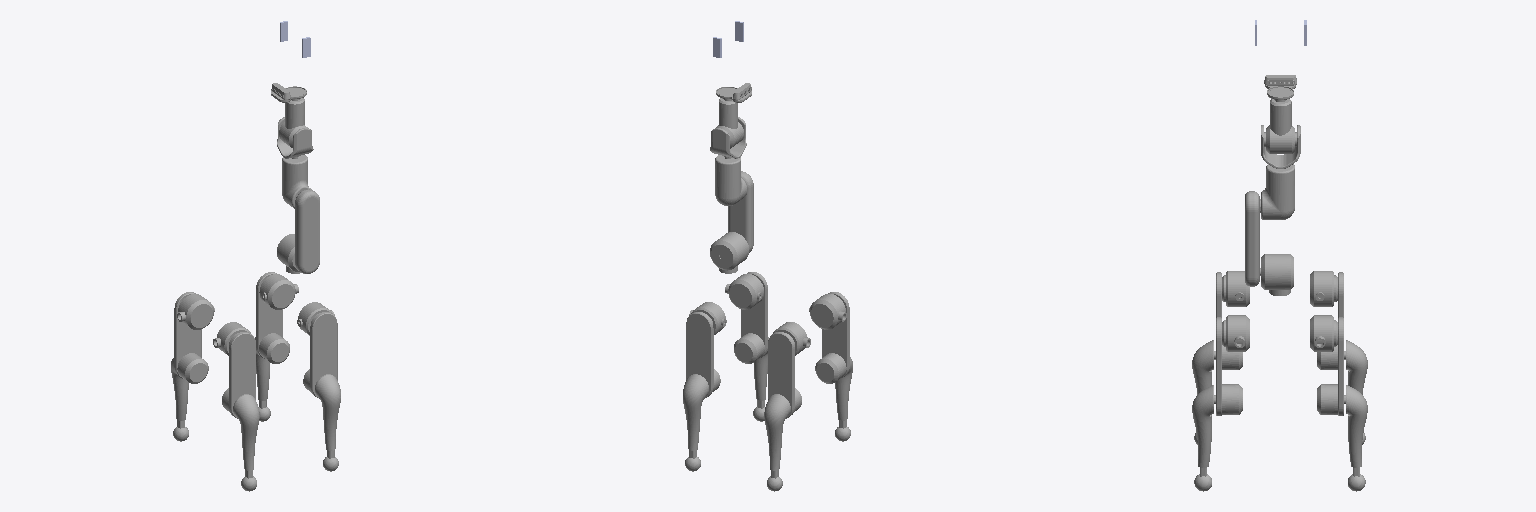
--- Render facts (derived) ---
3 views of the same robot in one strip: view 1: azimuth 30°, elevation 25°; view 2: azimuth 150°, elevation 25°; view 3: azimuth 270°, elevation 25° (orthographic).
Model pipebot with 39 links and 38 joints (6 revolute, 18 continuous, 14 fixed), rooted at base_link, posed every joint at zero.
Visible links, largest first — view 1: ARM_2_1, FR_thigh_2, BR_thigh_1, BL_thigh_1, FL_thigh_1, FR_calf_2, BR_calf_1, ARM_3_1, FL_hip_1, BL_hip_2, ARM_5_1, ARM_4_1 (+4 smaller); view 2: FL_thigh_1, BL_thigh_1, BR_thigh_1, FR_thigh_2, ARM_3_1, FL_calf_1, BL_calf_1, ARM_1_1, ARM_2_1, FR_hip_1, BR_hip_1, ARM_5_1 (+4 smaller); view 3: ARM_3_1, ARM_5_1, ARM_2_1, FR_calf_2, FL_calf_1, ARM_1_1, FR_thigh_2, FL_thigh_1, FR_hip_1, FL_hip_1, BL_hip_2, BR_hip_1 (+6 smaller).
Link boxes in pixels (left/top/right/bottom): ARM_2_1: left=295, top=189, right=319, bottom=273; FR_thigh_2: left=303, top=312, right=337, bottom=398; BR_thigh_1: left=222, top=332, right=255, bottom=418; BL_thigh_1: left=174, top=292, right=208, bottom=383; FL_thigh_1: left=256, top=272, right=289, bottom=363; FR_calf_2: left=315, top=374, right=340, bottom=458; BR_calf_1: left=233, top=394, right=259, bottom=478; ARM_3_1: left=282, top=155, right=311, bottom=208; FL_hip_1: left=259, top=274, right=298, bottom=309; BL_hip_2: left=177, top=294, right=214, bottom=329; ARM_5_1: left=279, top=98, right=307, bottom=147; ARM_4_1: left=277, top=117, right=313, bottom=158; FL_thigh_1: left=686, top=312, right=720, bottom=398; BL_thigh_1: left=768, top=332, right=801, bottom=418; BR_thigh_1: left=815, top=292, right=849, bottom=383; FR_thigh_2: left=734, top=272, right=767, bottom=363; ARM_3_1: left=715, top=155, right=747, bottom=205; FL_calf_1: left=683, top=374, right=708, bottom=458; BL_calf_1: left=764, top=394, right=790, bottom=478; ARM_1_1: left=710, top=232, right=748, bottom=273; ARM_2_1: left=728, top=171, right=753, bottom=252; FR_hip_1: left=725, top=274, right=763, bottom=309; BR_hip_1: left=809, top=294, right=846, bottom=329; ARM_5_1: left=716, top=98, right=743, bottom=148; ARM_3_1: left=1260, top=164, right=1294, bottom=219; ARM_5_1: left=1264, top=99, right=1296, bottom=153; ARM_2_1: left=1245, top=191, right=1259, bottom=286; FR_calf_2: left=1192, top=385, right=1213, bottom=476; FL_calf_1: left=1346, top=385, right=1367, bottom=476; ARM_1_1: left=1260, top=254, right=1293, bottom=295; FR_thigh_2: left=1214, top=317, right=1242, bottom=415; FL_thigh_1: left=1317, top=317, right=1345, bottom=415; FR_hip_1: left=1222, top=315, right=1249, bottom=351; FL_hip_1: left=1310, top=315, right=1337, bottom=351; BL_hip_2: left=1310, top=271, right=1337, bottom=306; BR_hip_1: left=1222, top=271, right=1249, bottom=306.
Size in the robot's own frame: 0.416 by 0.4817 by 1.41 metres.
Meshes: 28 distinct files referenced, 22 mesh visuals loaded (22 binary STL); not drawn: 10 (reference not matched to a file when rendering).

The robot description file, URDF, robot "pipebot":
<?xml version="1.0" ?>
<!-- =================================================================================== -->
<!-- |    This document was autogenerated by xacro from pipebot.xacro                  | -->
<!-- |    EDITING THIS FILE BY HAND IS NOT RECOMMENDED                                 | -->
<!-- =================================================================================== -->
<robot name="pipebot">
  <material name="silver">
    <color rgba="0.700 0.700 0.700 1.000"/>
  </material>
  <transmission name="FR_hip_joint_tran">
    <type>transmission_interface/SimpleTransmission</type>
    <joint name="FR_hip_joint">
      <hardwareInterface>hardware_interface/EffortJointInterface</hardwareInterface>
    </joint>
    <actuator name="FR_hip_joint_actr">
      <hardwareInterface>hardware_interface/EffortJointInterface</hardwareInterface>
      <mechanicalReduction>1</mechanicalReduction>
    </actuator>
  </transmission>
  <transmission name="FL_hip_joint_tran">
    <type>transmission_interface/SimpleTransmission</type>
    <joint name="FL_hip_joint">
      <hardwareInterface>hardware_interface/EffortJointInterface</hardwareInterface>
    </joint>
    <actuator name="FL_hip_joint_actr">
      <hardwareInterface>hardware_interface/EffortJointInterface</hardwareInterface>
      <mechanicalReduction>1</mechanicalReduction>
    </actuator>
  </transmission>
  <transmission name="BR_hip_joint_tran">
    <type>transmission_interface/SimpleTransmission</type>
    <joint name="BR_hip_joint">
      <hardwareInterface>hardware_interface/EffortJointInterface</hardwareInterface>
    </joint>
    <actuator name="BR_hip_joint_actr">
      <hardwareInterface>hardware_interface/EffortJointInterface</hardwareInterface>
      <mechanicalReduction>1</mechanicalReduction>
    </actuator>
  </transmission>
  <transmission name="BL_hip_joint_tran">
    <type>transmission_interface/SimpleTransmission</type>
    <joint name="BL_hip_joint">
      <hardwareInterface>hardware_interface/EffortJointInterface</hardwareInterface>
    </joint>
    <actuator name="BL_hip_joint_actr">
      <hardwareInterface>hardware_interface/EffortJointInterface</hardwareInterface>
      <mechanicalReduction>1</mechanicalReduction>
    </actuator>
  </transmission>
  <transmission name="FR_thigh_joint_tran">
    <type>transmission_interface/SimpleTransmission</type>
    <joint name="FR_thigh_joint">
      <hardwareInterface>hardware_interface/EffortJointInterface</hardwareInterface>
    </joint>
    <actuator name="FR_thigh_joint_actr">
      <hardwareInterface>hardware_interface/EffortJointInterface</hardwareInterface>
      <mechanicalReduction>1</mechanicalReduction>
    </actuator>
  </transmission>
  <transmission name="FL_thigh_joint_tran">
    <type>transmission_interface/SimpleTransmission</type>
    <joint name="FL_thigh_joint">
      <hardwareInterface>hardware_interface/EffortJointInterface</hardwareInterface>
    </joint>
    <actuator name="FL_thigh_joint_actr">
      <hardwareInterface>hardware_interface/EffortJointInterface</hardwareInterface>
      <mechanicalReduction>1</mechanicalReduction>
    </actuator>
  </transmission>
  <transmission name="BR_thigh_joint_tran">
    <type>transmission_interface/SimpleTransmission</type>
    <joint name="BR_thigh_joint">
      <hardwareInterface>hardware_interface/EffortJointInterface</hardwareInterface>
    </joint>
    <actuator name="BR_thigh_joint_actr">
      <hardwareInterface>hardware_interface/EffortJointInterface</hardwareInterface>
      <mechanicalReduction>1</mechanicalReduction>
    </actuator>
  </transmission>
  <transmission name="BL_thigh_joint_tran">
    <type>transmission_interface/SimpleTransmission</type>
    <joint name="BL_thigh_joint">
      <hardwareInterface>hardware_interface/EffortJointInterface</hardwareInterface>
    </joint>
    <actuator name="BL_thigh_joint_actr">
      <hardwareInterface>hardware_interface/EffortJointInterface</hardwareInterface>
      <mechanicalReduction>1</mechanicalReduction>
    </actuator>
  </transmission>
  <transmission name="FR_calf_joint_tran">
    <type>transmission_interface/SimpleTransmission</type>
    <joint name="FR_calf_joint">
      <hardwareInterface>hardware_interface/EffortJointInterface</hardwareInterface>
    </joint>
    <actuator name="FR_calf_joint_actr">
      <hardwareInterface>hardware_interface/EffortJointInterface</hardwareInterface>
      <mechanicalReduction>1</mechanicalReduction>
    </actuator>
  </transmission>
  <transmission name="FL_calf_joint_tran">
    <type>transmission_interface/SimpleTransmission</type>
    <joint name="FL_calf_joint">
      <hardwareInterface>hardware_interface/EffortJointInterface</hardwareInterface>
    </joint>
    <actuator name="FL_calf_joint_actr">
      <hardwareInterface>hardware_interface/EffortJointInterface</hardwareInterface>
      <mechanicalReduction>1</mechanicalReduction>
    </actuator>
  </transmission>
  <transmission name="BR_calf_joint_tran">
    <type>transmission_interface/SimpleTransmission</type>
    <joint name="BR_calf_joint">
      <hardwareInterface>hardware_interface/EffortJointInterface</hardwareInterface>
    </joint>
    <actuator name="BR_calf_joint_actr">
      <hardwareInterface>hardware_interface/EffortJointInterface</hardwareInterface>
      <mechanicalReduction>1</mechanicalReduction>
    </actuator>
  </transmission>
  <transmission name="BL_calf_joint_tran">
    <type>transmission_interface/SimpleTransmission</type>
    <joint name="BL_calf_joint">
      <hardwareInterface>hardware_interface/EffortJointInterface</hardwareInterface>
    </joint>
    <actuator name="BL_calf_joint_actr">
      <hardwareInterface>hardware_interface/EffortJointInterface</hardwareInterface>
      <mechanicalReduction>1</mechanicalReduction>
    </actuator>
  </transmission>

  <transmission name="arm_1_joint_tran">
    <type>transmission_interface/SimpleTransmission</type>
    <joint name="arm_1_joint">
      <hardwareInterface>hardware_interface/EffortJointInterface</hardwareInterface>
    </joint>
    <actuator name="arm_1_joint_actr">
      <hardwareInterface>hardware_interface/EffortJointInterface</hardwareInterface>
      <mechanicalReduction>1</mechanicalReduction>
    </actuator>
  </transmission>
  <transmission name="arm_2_joint_tran">
    <type>transmission_interface/SimpleTransmission</type>
    <joint name="arm_2_joint">
      <hardwareInterface>hardware_interface/EffortJointInterface</hardwareInterface>
    </joint>
    <actuator name="arm_2_joint_actr">
      <hardwareInterface>hardware_interface/EffortJointInterface</hardwareInterface>
      <mechanicalReduction>1</mechanicalReduction>
    </actuator>
  </transmission>
  <transmission name="arm_3_joint_tran">
    <type>transmission_interface/SimpleTransmission</type>
    <joint name="arm_3_joint">
      <hardwareInterface>hardware_interface/EffortJointInterface</hardwareInterface>
    </joint>
    <actuator name="arm_3_joint_actr">
      <hardwareInterface>hardware_interface/EffortJointInterface</hardwareInterface>
      <mechanicalReduction>1</mechanicalReduction>
    </actuator>
  </transmission>
  <transmission name="arm_4_joint_tran">
    <type>transmission_interface/SimpleTransmission</type>
    <joint name="arm_4_joint">
      <hardwareInterface>hardware_interface/EffortJointInterface</hardwareInterface>
    </joint>
    <actuator name="arm_4_joint_actr">
      <hardwareInterface>hardware_interface/EffortJointInterface</hardwareInterface>
      <mechanicalReduction>1</mechanicalReduction>
    </actuator>
  </transmission>
  <transmission name="arm_5_joint_tran">
    <type>transmission_interface/SimpleTransmission</type>
    <joint name="arm_5_joint">
      <hardwareInterface>hardware_interface/EffortJointInterface</hardwareInterface>
    </joint>
    <actuator name="arm_5_joint_actr">
      <hardwareInterface>hardware_interface/EffortJointInterface</hardwareInterface>
      <mechanicalReduction>1</mechanicalReduction>
    </actuator>
  </transmission>
  <transmission name="arm_6_joint_tran">
    <type>transmission_interface/SimpleTransmission</type>
    <joint name="arm_6_joint">
      <hardwareInterface>hardware_interface/EffortJointInterface</hardwareInterface>
    </joint>
    <actuator name="arm_6_joint_actr">
      <hardwareInterface>hardware_interface/EffortJointInterface</hardwareInterface>
      <mechanicalReduction>1</mechanicalReduction>
    </actuator>
  </transmission>

  <transmission name="finger_joint_trans">
    <type>transmission_interface/SimpleTransmission</type>
    <joint name="finger_joint">
      <hardwareInterface>hardware_interface/PositionJointInterface</hardwareInterface>
    </joint>
    <actuator name="finger_joint_motor">
      <mechanicalReduction>1</mechanicalReduction>
    </actuator>
  </transmission>
  <transmission name="left_inner_knuckle_joint_trans">
    <type>transmission_interface/SimpleTransmission</type>
    <joint name="left_inner_knuckle_joint">
      <hardwareInterface>hardware_interface/PositionJointInterface</hardwareInterface>
    </joint>
    <actuator name="left_inner_knuckle_joint_motor">
      <mechanicalReduction>1</mechanicalReduction>
    </actuator>
  </transmission>
  <transmission name="left_inner_finger_joint_trans">
    <type>transmission_interface/SimpleTransmission</type>
    <joint name="left_inner_finger_joint">
      <hardwareInterface>hardware_interface/PositionJointInterface</hardwareInterface>
    </joint>
    <actuator name="left_inner_finger_joint_motor">
      <mechanicalReduction>1</mechanicalReduction>
    </actuator>
  </transmission>
  <transmission name="right_outer_knuckle_joint_trans">
    <type>transmission_interface/SimpleTransmission</type>
    <joint name="right_outer_knuckle_joint">
      <hardwareInterface>hardware_interface/PositionJointInterface</hardwareInterface>
    </joint>
    <actuator name="right_outer_knuckle_joint_motor">
      <mechanicalReduction>1</mechanicalReduction>
    </actuator>
  </transmission>
  <transmission name="right_inner_knuckle_joint_trans">
    <type>transmission_interface/SimpleTransmission</type>
    <joint name="right_inner_knuckle_joint">
      <hardwareInterface>hardware_interface/PositionJointInterface</hardwareInterface>
    </joint>
    <actuator name="right_inner_knuckle_joint_motor">
      <mechanicalReduction>1</mechanicalReduction>
    </actuator>
  </transmission>
  <transmission name="right_inner_finger_joint_trans">
    <type>transmission_interface/SimpleTransmission</type>
    <joint name="right_inner_finger_joint">
      <hardwareInterface>hardware_interface/PositionJointInterface</hardwareInterface>
    </joint>
    <actuator name="right_inner_finger_joint_motor">
      <mechanicalReduction>1</mechanicalReduction>
    </actuator>
  </transmission>



  <gazebo>
    <plugin filename="libgazebo_ros_control.so" name="control">
      <legacyModeNS>true</legacyModeNS>
    </plugin>
  </gazebo>
  <gazebo reference="base_link">
    <material>Gazebo/DarkGrey</material>
 <!--    <mu1>0.2</mu1>
    <mu2>0.2</mu2> -->
    <gravity>true</gravity>
  </gazebo>
  <gazebo reference="FR_hip_1">
    <material>Gazebo/Grey</material>
    <!-- <mu1>0.2</mu1>
    <mu2>0.2</mu2> -->
  </gazebo>
  <gazebo reference="FL_hip_1">
    <material>Gazebo/Grey</material>
<!--     <mu1>0.2</mu1>
    <mu2>0.2</mu2> -->
  </gazebo>
  <gazebo reference="BR_hip_1">
    <material>Gazebo/Grey</material>
    <!-- <mu1>0.2</mu1>
    <mu2>0.2</mu2> -->
  </gazebo>
  <gazebo reference="BL_hip_2">
    <material>Gazebo/Grey</material>
    <!-- <mu1>0.2</mu1>
    <mu2>0.2</mu2> -->
  </gazebo>
  <gazebo reference="FR_thigh_2">
    <material>Gazebo/DarkGrey</material>
    <!-- <mu1>0.2</mu1>
    <mu2>0.2</mu2> -->
  </gazebo>
  <gazebo reference="FL_thigh_1">
    <material>Gazebo/DarkGrey</material>
    <!-- <mu1>0.2</mu1>
    <mu2>0.2</mu2> -->
  </gazebo>
  <gazebo reference="BR_thigh_1">
    <material>Gazebo/DarkGrey</material>
    <!-- <mu1>0.2</mu1>
    <mu2>0.2</mu2> -->
  </gazebo>
  <gazebo reference="BL_thigh_1">
    <material>Gazebo/DarkGrey</material>
    <!-- <mu1>0.2</mu1>
    <mu2>0.2</mu2> -->
  </gazebo>
  <gazebo reference="FR_calf_2">
    <material>Gazebo/DarkGrey</material>
    <!-- <mu1>0.2</mu1>
    <mu2>0.2</mu2> -->
  </gazebo>
  <gazebo reference="FL_calf_1">
    <material>Gazebo/DarkGrey</material>
    <!-- <mu1>0.2</mu1>
    <mu2>0.2</mu2> -->
  </gazebo>
  <gazebo reference="BR_calf_1">
    <material>Gazebo/DarkGrey</material>
    <!-- <mu1>0.2</mu1>
    <mu2>0.2</mu2> -->
  </gazebo>
  <gazebo reference="BL_calf_1">
    <material>Gazebo/DarkGrey</material>
    <!-- <mu1>0.2</mu1>
    <mu2>0.2</mu2> -->
  </gazebo>
  <gazebo reference="ARM_1_1">
    <material>Gazebo/Grey</material>
      <mu1>10.0</mu1>
      <mu2>10.0</mu2>
      <kp>1000000.0</kp>
      <kd>1000.0</kd>
      <minDepth>0.01</minDepth>
      <maxVel>1.0</maxVel>
  </gazebo>
  <gazebo reference="ARM_2_1">
    <material>Gazebo/DarkGrey</material>
      <mu1>10.0</mu1>
      <mu2>10.0</mu2>
      <kp>1000000.0</kp>
      <kd>1000.0</kd>
      <minDepth>0.01</minDepth>
      <maxVel>1.0</maxVel>
  </gazebo>
  <gazebo reference="ARM_3_1">
    <material>Gazebo/DarkGrey</material>
      <mu1>10.0</mu1>
      <mu2>10.0</mu2>
      <kp>1000000.0</kp>
      <kd>1000.0</kd>
      <minDepth>0.01</minDepth>
      <maxVel>1.0</maxVel>
  </gazebo>
  <gazebo reference="ARM_4_1">
    <material>Gazebo/DarkGrey</material>
      <mu1>10.0</mu1>
      <mu2>10.0</mu2>
      <kp>1000000.0</kp>
      <kd>1000.0</kd>
      <minDepth>0.01</minDepth>
      <maxVel>1.0</maxVel>
  </gazebo>
  <gazebo reference="ARM_5_1">
    <material>Gazebo/DarkGrey</material>
      <mu1>10.0</mu1>
      <mu2>10.0</mu2>
      <kp>1000000.0</kp>
      <kd>1000.0</kd>
      <minDepth>0.01</minDepth>
      <maxVel>1.0</maxVel>
  </gazebo>
  <gazebo reference="ARM_6_1">
    <material>Gazebo/DarkGrey</material>
<!--     <mu1>0.2</mu1>
    <mu2>0.2</mu2> -->
      <mu1>10.0</mu1>
      <mu2>10.0</mu2>
      <kp>1000000.0</kp>
      <kd>1000.0</kd>
      <minDepth>0.01</minDepth>
      <maxVel>1.0</maxVel>
  </gazebo>
  <gazebo reference="FL_foot_1">
    <material>Gazebo/Black</material>
      <mu1>10.0</mu1>
      <mu2>10.0</mu2>
      <kp>1000000.0</kp>
      <kd>1000.0</kd>
      <minDepth>0.01</minDepth>
      <maxVel>1.0</maxVel>
  </gazebo>
  <gazebo reference="FR_foot_1">
    <material>Gazebo/Black</material>
      <mu1>10.0</mu1>
      <mu2>10.0</mu2>
      <kp>1000000.0</kp>
      <kd>1000.0</kd>
      <minDepth>0.01</minDepth>
      <maxVel>1.0</maxVel>
  </gazebo>
  <gazebo reference="BR_foot_4">
    <material>Gazebo/Black</material>
      <mu1>10.0</mu1>
      <mu2>10.0</mu2>
      <kp>1000000.0</kp>
      <kd>1000.0</kd>
      <minDepth>0.01</minDepth>
      <maxVel>1.0</maxVel>
  </gazebo>
  <gazebo reference="BL_foot_1">    
    <material>Gazebo/Black</material>
      <mu1>10.0</mu1>
      <mu2>10.0</mu2>
      <kp>1000000.0</kp>
      <kd>1000.0</kd>
      <minDepth>0.01</minDepth>
      <maxVel>1.0</maxVel>
  </gazebo>
  

  <gazebo reference="robotiq_arg2f_base_link">    
    <material>Gazebo/Grey</material>
  </gazebo>
  <gazebo reference="left_outer_knuckle">    
    <material>Gazebo/White</material>
  </gazebo>
  <gazebo reference="left_outer_finger">    
    <material>Gazebo/DarkGrey</material>
  </gazebo>
  <gazebo reference="left_inner_finger">    
    <material>Gazebo/DarkGrey</material>
  </gazebo>
  <gazebo reference="left_inner_finger_pad">    
    <material>Gazebo/White</material>
      <mu1>100.0</mu1>
      <mu2>100.0</mu2>
      <kp>1000000.0</kp>
      <kd>100000.0</kd>
      <minDepth>0.003</minDepth>
      <maxVel>0.0</maxVel>
  </gazebo>
  <gazebo reference="left_inner_knuckle">    
    <material>Gazebo/DarkGrey</material>
  </gazebo>
  <gazebo reference="right_outer_knuckle">    
    <material>Gazebo/White</material>
  </gazebo>
  <gazebo reference="right_outer_finger">    
    <material>Gazebo/DarkGrey</material>
  </gazebo>
  <gazebo reference="right_inner_finger">    
    <material>Gazebo/DarkGrey</material>
  </gazebo>
  <gazebo reference="right_inner_finger_pad">    
    <material>Gazebo/White</material>
      <mu1>100.0</mu1>
      <mu2>100.0</mu2>
      <kp>1000000.0</kp>
      <kd>100000.0</kd>
      <minDepth>0.003</minDepth>
      <maxVel>0.0</maxVel>
  </gazebo>
  <gazebo reference="right_inner_knuckle">    
    <material>Gazebo/DarkGrey</material>
  </gazebo>


  <link name="base_link">
    <inertial>
      <origin rpy="0 0 0" xyz="0.0033827602101410043 -0.00027510616293287325 0.07066379377055013"/>
      <mass value="14.029718208807811"/>      
      <inertia ixx="0.085792" ixy="-4e-06" ixz="-0.005638" iyy="0.321558" iyz="-0.0" izz="0.365464"/>
    </inertial>
    <visual>
      <origin rpy="0 0 0" xyz="0 0 0"/>
      <geometry>
        <mesh filename="package://pipebot_config/meshes/base_link.stl" scale="0.001 0.001 0.001"/>
      </geometry>
      <material name="silver"/>
    </visual>
    <collision>
      <origin rpy="0 0 0" xyz="0 0 0.07"/>
      <geometry>
        <!-- <mesh filename="package://pipebot_config/meshes/base_link.stl" scale="0.001 0.001 0.001"/> -->
        <box size="0.532 0.285 0.135" />
      </geometry>
    </collision>
  </link>
  <link name="FR_hip_1">
    <inertial>
      <origin rpy="0 0 0" xyz="0.05534495479566107 -0.008820712971960562 -3.2335245592207684e-15"/>
      <mass value="0.5405625696384098"/>
      <inertia ixx="0.000528" ixy="-2e-06" ixz="-0.0" iyy="0.000646" iyz="-0.0" izz="0.000551"/>
    </inertial>
    <visual>
      <origin rpy="0 0 0" xyz="-0.0897 0.110275 -0.0675"/>
      <geometry>
        <mesh filename="package://pipebot_config/meshes/FR_hip_1.stl" scale="0.001 0.001 0.001"/>
      </geometry>
      <material name="silver"/>
    </visual>
 <!--    <collision>
      <origin rpy="0 0 0" xyz="-0.0897 0.110275 -0.0675"/>
      <geometry>
        <mesh filename="package://pipebot_config/meshes/FR_hip_1.stl" scale="0.001 0.001 0.001"/>
      </geometry>
    </collision> -->
  </link>
  <link name="FL_hip_1">
    <inertial>
      <origin rpy="0 0 0" xyz="0.05534495479566112 0.008821436558665019 3.066991105526995e-15"/>
      <mass value="0.5405625696384098"/>
      <inertia ixx="0.000528" ixy="2e-06" ixz="0.0" iyy="0.000646" iyz="-0.0" izz="0.000551"/>
    </inertial>
    <visual>
      <origin rpy="0 0 0" xyz="-0.0897 -0.109725 -0.0675"/>
      <geometry>
        <mesh filename="package://pipebot_config/meshes/FL_hip_1.stl" scale="0.001 0.001 0.001"/>
      </geometry>
      <material name="silver"/>
    </visual>
 <!--    <collision>
      <origin rpy="0 0 0" xyz="-0.0897 -0.109725 -0.0675"/>
      <geometry>
        <mesh filename="package://pipebot_config/meshes/FL_hip_1.stl" scale="0.001 0.001 0.001"/>
      </geometry>
    </collision> -->
  </link>
  <link name="BR_hip_1">
    <inertial>
      <origin rpy="0 0 0" xyz="-0.05534530530947 -0.00882071297196084 2.9837243786801082e-15"/>
      <mass value="0.5405625696384098"/>
      <inertia ixx="0.000528" ixy="2e-06" ixz="-0.0" iyy="0.000646" iyz="0.0" izz="0.000551"/>
    </inertial>
    <visual>
      <origin rpy="0 0 0" xyz="0.0903 0.110275 -0.0675"/>
      <geometry>
        <mesh filename="package://pipebot_config/meshes/BR_hip_1.stl" scale="0.001 0.001 0.001"/>
      </geometry>
      <material name="silver"/>
    </visual>
   <!--  <collision>
      <origin rpy="0 0 0" xyz="0.0903 0.110275 -0.0675"/>
      <geometry>
        <mesh filename="package://pipebot_config/meshes/BR_hip_1.stl" scale="0.001 0.001 0.001"/>
      </geometry>
    </collision> -->
  </link>
  <link name="BL_hip_2">
    <inertial>
      <origin rpy="0 0 0" xyz="-0.05534530530946975 0.008821436558665116 -3.3029134982598407e-15"/>
      <mass value="0.5405625696384098"/>
      <inertia ixx="0.000528" ixy="-2e-06" ixz="0.0" iyy="0.000646" iyz="0.0" izz="0.000551"/>
    </inertial>
    <visual>
      <origin rpy="0 0 0" xyz="0.0903 -0.109725 -0.0675"/>
      <geometry>
        <mesh filename="package://pipebot_config/meshes/BL_hip_2.stl" scale="0.001 0.001 0.001"/>
      </geometry>
      <material name="silver"/>
    </visual>
   <!--  <collision>
      <origin rpy="0 0 0" xyz="0.0903 -0.109725 -0.0675"/>
      <geometry>
        <mesh filename="package://pipebot_config/meshes/BL_hip_2.stl" scale="0.001 0.001 0.001"/>
      </geometry>
    </collision> -->
  </link>
  <link name="FR_thigh_2">
    <inertial>
      <origin rpy="0 0 0" xyz="-1.752569043500518e-07 0.008553923180792372 -0.1460839641861526"/>
      <mass value="0.6712775800969663"/>
      <inertia ixx="0.004329" ixy="-0.0" ixz="-0.0" iyy="0.004392" iyz="0.000581" izz="0.000652"/>
    </inertial>
    <visual>
      <origin rpy="0 0 0" xyz="-0.1447 0.160275 -0.0675"/>
      <geometry>
        <mesh filename="package://pipebot_config/meshes/FR_thigh_2.stl" scale="0.001 0.001 0.001"/>
      </geometry>
      <material name="silver"/>
    </visual>
    <collision>
      <origin rpy="0 0 0" xyz="0.0 0.01 -0.085"/>
      <geometry>
        <!-- <mesh filename="package://pipebot_config/meshes/FR_thigh_2.stl" scale="0.001 0.001 0.001"/> -->
        <cylinder length="0.22" radius="0.035" />
      </geometry>
    </collision>
  </link>
  <link name="FL_thigh_1">
    <inertial>
      <origin rpy="0 0 0" xyz="-1.7525690446107411e-07 -0.008553199594087929 -0.1460839641861526"/>
      <mass value="0.6712775800969663"/>
      <inertia ixx="0.004329" ixy="-0.0" ixz="0.0" iyy="0.004392" iyz="-0.000581" izz="0.000652"/>
    </inertial>
    <visual>
      <origin rpy="0 0 0" xyz="-0.1447 -0.159725 -0.0675"/>
      <geometry>
        <mesh filename="package://pipebot_config/meshes/FL_thigh_1.stl" scale="0.001 0.001 0.001"/>
      </geometry>
      <material name="silver"/>
    </visual>
    <collision>
      <origin rpy="0 0 0" xyz="0.0 -0.01 -0.085"/>
      <geometry>
        <!-- <mesh filename="package://pipebot_config/meshes/FL_thigh_1.stl" scale="0.001 0.001 0.001"/> -->
        <cylinder length="0.22" radius="0.035" />
      </geometry>
    </collision>
  </link>
  <link name="BR_thigh_1">
    <inertial>
      <origin rpy="0 0 0" xyz="-1.7525690446107411e-07 0.008553923180792067 -0.14608396418615266"/>
      <mass value="0.6712775800969663"/>
      <inertia ixx="0.004329" ixy="0.0" ixz="0.0" iyy="0.004392" iyz="0.000581" izz="0.000652"/>
    </inertial>
    <visual>
      <origin rpy="0 0 0" xyz="0.1453 0.160275 -0.0675"/>
      <geometry>
        <mesh filename="package://pipebot_config/meshes/BR_thigh_1.stl" scale="0.001 0.001 0.001"/>
      </geometry>
      <material name="silver"/>
    </visual>
    <collision>
      <origin rpy="0 0 0" xyz="0.0 0.01 -0.085"/>
      <geometry>
        <!-- <mesh filename="package://pipebot_config/meshes/BR_thigh_1.stl" scale="0.001 0.001 0.001"/> -->
        <cylinder length="0.22" radius="0.035" />
      </geometry>
    </collision>
  </link>
  <link name="BL_thigh_1">
    <inertial>
      <origin rpy="0 0 0" xyz="-1.7525690432229624e-07 -0.008553199594087763 -0.14608396418615266"/>
      <mass value="0.6712775800969663"/>
      <inertia ixx="0.004329" ixy="0.0" ixz="-0.0" iyy="0.004392" iyz="-0.000581" izz="0.000652"/>
    </inertial>
    <visual>
      <origin rpy="0 0 0" xyz="0.1453 -0.159725 -0.0675"/>
      <geometry>
        <mesh filename="package://pipebot_config/meshes/BL_thigh_1.stl" scale="0.001 0.001 0.001"/>
      </geometry>
      <material name="silver"/>
    </visual>
    <collision>
      <origin rpy="0 0 0" xyz="0.0 -0.01 -0.085"/>
      <geometry>
        <!-- <mesh filename="package://pipebot_config/meshes/BL_thigh_1.stl" scale="0.001 0.001 0.001"/> -->
        <cylinder length="0.22" radius="0.035" />
      </geometry>
    </collision>
  </link>
  <link name="FR_calf_2">
    <inertial>
      <origin rpy="0 0 0" xyz="-6.545205563368572e-07 -0.026638451213781028 -0.06322775699684074"/>
      <mass value="0.44827046160119605"/>
      <inertia ixx="0.002095" ixy="0.0" ixz="0.0" iyy="0.002115" iyz="-7.1e-05" izz="0.000179"/>
    </inertial>
    <visual>
      <origin rpy="0 0 0" xyz="-0.1447 0.180275 0.1325"/>
      <geometry>
        <mesh filename="package://pipebot_config/meshes/FR_calf_2.stl" scale="0.001 0.001 0.001"/>
      </geometry>
      <material name="silver"/>
    </visual>
    <collision>
      <origin rpy="0 0 0" xyz="0.0 -0.03 -0.1"/>
      <geometry>
        <!-- <mesh filename="package://pipebot_config/meshes/FR_calf_2.stl" scale="0.001 0.001 0.001"/> -->
        <cylinder length="0.26" radius="0.02" />
      </geometry>
    </collision>
  </link>
  <link name="FL_calf_1">
    <inertial>
      <origin rpy="0 0 0" xyz="3.0400674758124246e-07 0.02663917480048489 -0.06322775699684105"/>
      <mass value="0.44827046160119605"/>
      <inertia ixx="0.002095" ixy="0.0" ixz="-0.0" iyy="0.002115" iyz="7.1e-05" izz="0.000179"/>
    </inertial>
    <visual>
      <origin rpy="0 0 0" xyz="-0.1447 -0.179725 0.1325"/>
      <geometry>
        <mesh filename="package://pipebot_config/meshes/FL_calf_1.stl" scale="0.001 0.001 0.001"/>
      </geometry>
      <material name="silver"/>
    </visual>
    <collision>
      <origin rpy="0 0 0" xyz="0.0 0.03 -0.1"/>
      <geometry>
        <!-- <mesh filename="package://pipebot_config/meshes/FL_calf_1.stl" scale="0.001 0.001 0.001"/> -->
        <cylinder length="0.26" radius="0.02" />
      </geometry>
    </collision>
  </link>
  <link name="BR_calf_1">
    <inertial>
      <origin rpy="0 0 0" xyz="-6.545205564478795e-07 -0.026638451213780612 -0.06322775699684094"/>
      <mass value="0.44827046160119605"/>
      <inertia ixx="0.002095" ixy="0.0" ixz="0.0" iyy="0.002115" iyz="-7.1e-05" izz="0.000179"/>
    </inertial>
    <visual>
      <origin rpy="0 0 0" xyz="0.1453 0.180275 0.1325"/>
      <geometry>
        <mesh filename="package://pipebot_config/meshes/BR_calf_1.stl" scale="0.001 0.001 0.001"/>
      </geometry>
      <material name="silver"/>
    </visual>
    <collision>
      <origin rpy="0 0 0" xyz="0.0 -0.03 -0.1"/>
      <geometry>
        <!-- <mesh filename="package://pipebot_config/meshes/BR_calf_1.stl" scale="0.001 0.001 0.001"/> -->
        <cylinder length="0.26" radius="0.02" />
      </geometry>
    </collision>
  </link>
  <link name="BL_calf_1">
    <inertial>
      <origin rpy="0 0 0" xyz="3.0400674780328707e-07 0.026639174800485 -0.06322775699683994"/>
      <mass value="0.44827046160119605"/>
      <inertia ixx="0.002095" ixy="0.0" ixz="-0.0" iyy="0.002115" iyz="7.1e-05" izz="0.000179"/>
    </inertial>
    <visual>
      <origin rpy="0 0 0" xyz="0.1453 -0.179725 0.1325"/>
      <geometry>
        <mesh filename="package://pipebot_config/meshes/BL_calf_1.stl" scale="0.001 0.001 0.001"/>
      </geometry>
      <material name="silver"/>
    </visual>
    <collision>
      <origin rpy="0 0 0" xyz="0.0 0.03 -0.1"/>
      <geometry>
        <!-- <mesh filename="package://pipebot_config/meshes/BL_calf_1.stl" scale="0.001 0.001 0.001"/> -->
        <cylinder length="0.26" radius="0.02" />
      </geometry>
    </collision>
  </link>

  <link name="ARM_1_1">
    <inertial>
      <origin rpy="0 0 0" xyz="-1.7525690418351836e-07 -0.005830729905288033 0.057375249759442165"/>
      <mass value="0.7137414944358373"/>
      <inertia ixx="0.000943" ixy="-0.0" ixz="-0.0" iyy="0.000925" iyz="1.1e-05" izz="0.000857"/>
    </inertial>
    <visual>
      <origin rpy="0 0 0" xyz="-0.1397 0.000275 -0.1915"/>
      <geometry>
        <mesh filename="package://pipebot_config/meshes/ARM_1_1.stl" scale="0.001 0.001 0.001"/>
      </geometry>
      <material name="silver"/>
    </visual>
    <collision>
      <origin rpy="0 0 0" xyz="0.0 0.0 0.06"/>
      <geometry>
        <!-- <mesh filename="package://pipebot_config/meshes/ARM_1_1.stl" scale="0.001 0.001 0.001"/> -->
        <sphere radius="0.05"/>
      </geometry>
    </collision>
  </link>
  <link name="ARM_2_1">
    <inertial>
      <origin rpy="0 0 0" xyz="-1.7525690415576278e-07 -0.02012141912775895 0.10000000000000003"/>
      <mass value="0.773912520513888"/>
      <inertia ixx="0.004467" ixy="-0.0" ixz="0.0" iyy="0.004728" iyz="0.0" izz="0.000448"/>
    </inertial>
    <visual>
      <origin rpy="0 0 0" xyz="-0.1397 0.056275 -0.2515"/>
      <geometry>
        <mesh filename="package://pipebot_config/meshes/ARM_2_1.stl" scale="0.001 0.001 0.001"/>
      </geometry>
      <material name="silver"/>
    </visual>
    <collision>
      <origin rpy="0 0 0" xyz="0.0 -0.02 0.1"/>
      <geometry>
        <!-- <mesh filename="package://pipebot_config/meshes/ARM_2_1.stl" scale="0.001 0.001 0.001"/> -->
        <cylinder length="0.26" radius="0.025" />
      </geometry>
    </collision>
  </link>
  <link name="ARM_3_1">
    <inertial>
      <origin rpy="0 0 0" xyz="-1.6744995820494601e-07 0.052205017987439005 0.03937119797670785"/>
      <mass value="0.8606075760650315"/>
      <inertia ixx="0.002133" ixy="0.0" ixz="-0.0" iyy="0.002006" iyz="-0.000203" izz="0.00081"/>
    </inertial>
    <visual>
      <origin rpy="0 0 0" xyz="-0.1397 0.056275 -0.4515"/>
      <geometry>
        <mesh filename="package://pipebot_config/meshes/ARM_3_1.stl" scale="0.001 0.001 0.001"/>
      </geometry>
      <material name="silver"/>
    </visual>
    <collision>
      <origin rpy="0 0 0" xyz="0.0 0.055 0.05"/>
      <geometry>
        <!-- <mesh filename="package://pipebot_config/meshes/ARM_3_1.stl" scale="0.001 0.001 0.001"/> -->
        <cylinder length="0.16" radius="0.035" />
      </geometry>
    </collision>
  </link>
  <link name="ARM_4_1">
    <inertial>
      <origin rpy="0 0 0" xyz="-3.009150454369447e-07 6.579991790117094e-07 0.04871488915431432"/>
      <mass value="0.16016196275303185"/>
      <inertia ixx="0.000446" ixy="0.0" ixz="-0.0" iyy="0.000233" iyz="0.0" izz="0.000344"/>
    </inertial>
    <visual>
      <origin rpy="0 0 0" xyz="-0.1397 -0.001725 -0.5765"/>
      <geometry>
        <mesh filename="package://pipebot_config/meshes/ARM_4_1.stl" scale="0.001 0.001 0.001"/>
      </geometry>
      <material name="silver"/>
    </visual>
    <!-- <collision>
      <origin rpy="0 0 0" xyz="-0.1397 -0.001725 -0.5765"/>
      <geometry>
        <mesh filename="package://pipebot_config/meshes/ARM_4_1.stl" scale="0.001 0.001 0.001"/>
      </geometry>
    </collision> -->
  </link>
  <link name="ARM_5_1">
    <inertial>
      <origin rpy="0 0 0" xyz="-1.6924779255855782e-07 0.045000352936759976 0.029600723352987135"/>
      <mass value="0.6278003275043091"/>
      <inertia ixx="0.001456" ixy="0.0" ixz="-0.0" iyy="0.001399" iyz="0.0" izz="0.000458"/>
    </inertial>
    <visual>
      <origin rpy="0 0 0" xyz="-0.1397 0.043275 -0.6515"/>
      <geometry>
        <mesh filename="package://pipebot_config/meshes/ARM_5_1.stl" scale="0.001 0.001 0.001"/>
      </geometry>
      <material name="silver"/>
    </visual>
    <collision>
      <origin rpy="0 0 0" xyz="0.0 0.045 0.045"/>
      <geometry>
        <!-- <mesh filename="package://pipebot_config/meshes/ARM_5_1.stl" scale="0.001 0.001 0.001"/> -->
        <cylinder length="0.16" radius="0.03" />
      </geometry>
    </collision>
  </link>
  <link name="ARM_6_1">
    <inertial>
      <origin rpy="0 0 0" xyz="-0.03224349227133551 4.51063936480838e-06 0.02024322382633237"/>
      <mass value="0.286612233804275"/>
      <inertia ixx="0.000168" ixy="0.0" ixz="4.1e-05" iyy="0.000239" iyz="-0.0" izz="0.000346"/>
    </inertial>
    <visual>
      <origin rpy="0 0 0" xyz="-0.1397 -0.001725 -0.7765"/>
      <geometry>
        <mesh filename="package://pipebot_config/meshes/ARM_6_1.stl" scale="0.001 0.001 0.001"/>
      </geometry>
      <material name="silver"/>
    </visual>
<!--     <collision>
      <origin rpy="0 0 0" xyz="-0.1397 -0.001725 -0.7765"/>
      <geometry>
        <mesh filename="package://pipebot_config/meshes/ARM_6_1.stl" scale="0.001 0.001 0.001"/>
      </geometry>
    </collision> -->
  </link>

  <link name="FL_foot_1">
    <inertial>
      <origin rpy="0 0 0" xyz="-1.7525690432229624e-07 3.6179335244357347e-07 -0.0018890805472966399"/>
      <mass value="0.05646802367385563"/>
      <inertia ixx="1.4e-05" ixy="0.0" ixz="0.0" iyy="1.4e-05" iyz="0.0" izz="1.6e-05"/>
    </inertial>
    <visual>
      <origin rpy="0 0 0" xyz="-0.1447 -0.209725 0.3825"/>
      <geometry>
        <mesh filename="package://pipebot_config/meshes/FL_foot_1.stl" scale="0.001 0.001 0.001"/>
      </geometry>
      <material name="silver"/>
    </visual>
    <collision>
      <origin rpy="0 0 0" xyz="0.0 0.0 0.0"/>
      <geometry>
        <!-- <mesh filename="package://pipebot_config/meshes/FL_foot_1.stl" scale="0.001 0.001 0.001"/> -->
        <sphere radius="0.03" />
      </geometry>
    </collision>
  </link>
  <link name="FR_foot_1">
    <inertial>
      <origin rpy="0 0 0" xyz="-1.7525690426678509e-07 3.617933521660177e-07 -0.0018890805472965844"/>
      <mass value="0.05646802367385563"/>
      <inertia ixx="1.4e-05" ixy="-0.0" ixz="0.0" iyy="1.4e-05" iyz="0.0" izz="1.6e-05"/>
    </inertial>
    <visual>
      <origin rpy="0 0 0" xyz="-0.1447 0.210275 0.3825"/>
      <geometry>
        <mesh filename="package://pipebot_config/meshes/FR_foot_1.stl" scale="0.001 0.001 0.001"/>
      </geometry>
      <material name="silver"/>
    </visual>
    <collision>
      <origin rpy="0 0 0" xyz="0.0 0.0 0.0"/>
      <geometry>
        <!-- <mesh filename="package://pipebot_config/meshes/FR_foot_1.stl" scale="0.001 0.001 0.001"/> -->
        <sphere radius="0.03" />
      </geometry>
    </collision>
  </link>
  <link name="BR_foot_4">
    <inertial>
      <origin rpy="0 0 0" xyz="-1.752569043500518e-07 3.6179335222152886e-07 -0.0018890805472984162"/>
      <mass value="0.05646802367385563"/>
      <inertia ixx="1.4e-05" ixy="-0.0" ixz="0.0" iyy="1.4e-05" iyz="-0.0" izz="1.6e-05"/>
    </inertial>
    <visual>
      <origin rpy="0 0 0" xyz="0.1453 0.210275 0.3825"/>
      <geometry>
        <mesh filename="package://pipebot_config/meshes/BR_foot_4.stl" scale="0.001 0.001 0.001"/>
      </geometry>
      <material name="silver"/>
    </visual>
    <collision>
      <origin rpy="0 0 0" xyz="0.0 0.0 0.0"/>
      <geometry>
        <!-- <mesh filename="package://pipebot_config/meshes/BR_foot_4.stl" scale="0.001 0.001 0.001"/> -->
        <sphere radius="0.03" />
      </geometry>
    </collision>
  </link>
  <link name="BL_foot_1">
    <inertial>
      <origin rpy="0 0 0" xyz="-1.7525690507169678e-07 3.617933526101069e-07 -0.0018890805472970285"/>
      <mass value="0.05646802367385563"/>
      <inertia ixx="1.4e-05" ixy="0.0" ixz="0.0" iyy="1.4e-05" iyz="0.0" izz="1.6e-05"/>
    </inertial>
    <visual>
      <origin rpy="0 0 0" xyz="0.1453 -0.209725 0.3825"/>
      <geometry>
        <mesh filename="package://pipebot_config/meshes/BL_foot_1.stl" scale="0.001 0.001 0.001"/>
      </geometry>
      <material name="silver"/>
    </visual>
    <collision>
      <origin rpy="0 0 0" xyz="0.0 0.0 0.0"/>
      <geometry>
        <!-- <mesh filename="package://pipebot_config/meshes/BL_foot_1.stl" scale="0.001 0.001 0.001"/> -->
        <sphere radius="0.03" />
      </geometry>
    </collision>
  </link>


  <link name="robotiq_arg2f_base_link">
    <inertial>
      <origin rpy="0 0 0" xyz="8.625E-08 -4.6583E-06 0.03145"/>
      <mass value="0.22652"/>
      <inertia ixx="0.00020005" ixy="-4.2442E-10" ixz="-2.9069E-10" iyy="0.00017832" iyz="-3.4402E-08" izz="0.00013478"/>
    </inertial>
    <visual>
      <origin rpy="0 0 0" xyz="0 0 0"/>
      <geometry>
        <mesh filename="package://pipebot_config/meshes/visual/robotiq_arg2f_base_link.stl"/>
      </geometry>
      <material name="">
        <color rgba="0.1 0.1 0.1 1"/>
      </material>
    </visual>
    <collision>
      <origin rpy="0 0 0" xyz="0 0 0.04"/>
      <geometry>
        <!-- <mesh filename="package://pipebot_config/meshes/collision/robotiq_arg2f_base_link.stl"/> -->
        <cylinder length="0.08" radius="0.04"/>
      </geometry>
    </collision>
  </link>
  <link name="left_outer_knuckle">
    <inertial>
      <origin rpy="0 0 0" xyz="-0.000200000000003065 0.0199435877845359 0.0292245259211331"/>
      <mass value="0.00853198276973456"/>
      <inertia ixx="2.89328108496468E-06" ixy="-1.57935047237397E-19" ixz="-1.93980378593255E-19" iyy="1.86719750325683E-06" iyz="-1.21858577871576E-06" izz="1.21905238907251E-06"/>
    </inertial>
    <visual>
      <origin rpy="0 0 0" xyz="0 0 0"/>
      <geometry>
        <mesh filename="package://pipebot_config/meshes/visual/robotiq_arg2f_140_outer_knuckle.stl"/>
      </geometry>
      <material name="">
        <color rgba="0.792156862745098 0.819607843137255 0.933333333333333 1"/>
      </material>
    </visual>
<!--     <collision>
      <origin rpy="0 0 0" xyz="0 0 0"/>
      <geometry>
        <mesh filename="package://pipebot_config/meshes/collision/robotiq_arg2f_140_outer_knuckle.stl"/>
      </geometry>
    </collision> -->
  </link>
  <link name="left_outer_finger">
    <inertial>
      <origin rpy="0 0 0" xyz="0.00030115855001899 0.0373907951953854 -0.0208027427000385"/>
      <mass value="0.022614240507152"/>
      <inertia ixx="1.52518312458174E-05" ixy="9.76583423954399E-10" ixz="-5.43838577022588E-10" iyy="6.17694243867776E-06" iyz="6.78636130740228E-06" izz="1.16494917907219E-05"/>
    </inertial>
    <visual>
      <origin rpy="0 0 0" xyz="0 0 0"/>
      <geometry>
        <mesh filename="package://pipebot_config/meshes/visual/robotiq_arg2f_140_outer_finger.stl"/>
      </geometry>
      <material name="">
        <color rgba="0.1 0.1 0.1 1"/>
      </material>
    </visual>
    <collision>
      <origin rpy="1.3 0 0" xyz="0 0.04 -0.018"/>
      <geometry>
        <!-- <mesh filename="package://pipebot_config/meshes/collision/robotiq_arg2f_140_outer_finger.stl"/> -->
        <box size="0.03 0.01 0.1"/>
      </geometry>
    </collision>
  </link>
  <link name="left_inner_finger">
    <inertial>
      <origin rpy="0 0 0" xyz="0.000299999999999317 0.0160078233491243 -0.0136945669206257"/>
      <mass value="0.0104003125914103"/>
      <inertia ixx="2.71909453810972E-06" ixy="1.35402465472579E-21" ixz="-7.1817349065269E-22" iyy="7.69100314106116E-07" iyz="6.74715432769696E-07" izz="2.30315190420171E-06"/>
    </inertial>
    <visual>
      <origin rpy="0 0 0" xyz="0 0 0"/>
      <geometry>
        <mesh filename="package://pipebot_config/meshes/visual/robotiq_arg2f_140_inner_finger.stl"/>
      </geometry>
      <material name="">
        <color rgba="0.1 0.1 0.1 1"/>
      </material>
    </visual>
    <collision>
      <origin rpy="1.5708 0 0" xyz="0 0.02 -0.015"/>
      <geometry>
        <!-- <mesh filename="package://pipebot_config/meshes/collision/robotiq_arg2f_140_inner_finger.stl"/> -->
        <box size="0.015 0.015 0.05"/>
      </geometry>
    </collision>
  </link>
  <link name="left_inner_finger_pad">
    <visual>
      <origin rpy="0 0 0" xyz="0 0 0"/>
      <geometry>
        <box size="0.027 0.065 0.0075"/>
      </geometry>
      <material name="">
        <color rgba="0.792156862745098 0.819607843137255 0.933333333333333 1"/>
      </material>
    </visual>
    <collision>
      <origin rpy="0 0 0" xyz="0 0 0"/>
      <geometry>
        <box size="0.03 0.07 0.0075"/>
      </geometry>
    </collision>
  </link>
  <link name="left_inner_knuckle">
    <inertial>
      <origin rpy="0 0 0" xyz="0.000123011831763771 0.0507850843201817 0.00103968640075166"/>
      <mass value="0.0271177346495152"/>
      <inertia ixx="2.61910379223783E-05" ixy="-2.43616858946494E-07" ixz="-6.37789906117123E-09" iyy="2.8270243746167E-06" iyz="-5.37200748039765E-07" izz="2.83695868220296E-05"/>
    </inertial>
    <visual>
      <origin rpy="0 0 0" xyz="0 0 0"/>
      <geometry>
        <mesh filename="package://pipebot_config/meshes/visual/robotiq_arg2f_140_inner_knuckle.stl"/>
      </geometry>
      <material name="">
        <color rgba="0.1 0.1 0.1 1"/>
      </material>
    </visual>
    <collision>
      <origin rpy="1.58 0 0" xyz="0 0.04 0.0"/>
      <geometry>
        <!-- <mesh filename="package://pipebot_config/meshes/collision/robotiq_arg2f_140_inner_knuckle.stl"/> -->
        <box size="0.03 0.015 0.11"/>
      </geometry>
    </collision>
  </link>
  <link name="right_outer_knuckle">
    <inertial>
      <origin rpy="0 0 0" xyz="-0.000200000000003065 0.0199435877845359 0.0292245259211331"/>
      <mass value="0.00853198276973456"/>
      <inertia ixx="2.89328108496468E-06" ixy="-1.57935047237397E-19" ixz="-1.93980378593255E-19" iyy="1.86719750325683E-06" iyz="-1.21858577871576E-06" izz="1.21905238907251E-06"/>
    </inertial>
    <visual>
      <origin rpy="0 0 0" xyz="0 0 0"/>
      <geometry>
        <mesh filename="package://pipebot_config/meshes/visual/robotiq_arg2f_140_outer_knuckle.stl"/>
      </geometry>
      <material name="">
        <color rgba="0.792156862745098 0.819607843137255 0.933333333333333 1"/>
      </material>
    </visual>
<!--     <collision>
      <origin rpy="0 0 0" xyz="0 0 0"/>
      <geometry>
        <mesh filename="package://pipebot_config/meshes/collision/robotiq_arg2f_140_outer_knuckle.stl"/>
      </geometry>
    </collision> -->
  </link>
  <link name="right_outer_finger">
    <inertial>
      <origin rpy="0 0 0" xyz="0.00030115855001899 0.0373907951953854 -0.0208027427000385"/>
      <mass value="0.022614240507152"/>
      <inertia ixx="1.52518312458174E-05" ixy="9.76583423954399E-10" ixz="-5.43838577022588E-10" iyy="6.17694243867776E-06" iyz="6.78636130740228E-06" izz="1.16494917907219E-05"/>
    </inertial>
    <visual>
      <origin rpy="0 0 0" xyz="0 0 0"/>
      <geometry>
        <mesh filename="package://pipebot_config/meshes/visual/robotiq_arg2f_140_outer_finger.stl"/>
      </geometry>
      <material name="">
        <color rgba="0.1 0.1 0.1 1"/>
      </material>
    </visual>
    <collision>
      <origin rpy="1.3 0 0" xyz="0 0.04 -0.018"/>
      <geometry>
        <!-- <mesh filename="package://pipebot_config/meshes/collision/robotiq_arg2f_140_outer_finger.stl"/> -->
        <box size="0.03 0.01 0.1"/>
      </geometry>
    </collision>
  </link>
  <link name="right_inner_finger">
    <inertial>
      <origin rpy="0 0 0" xyz="0.000299999999999317 0.0160078233491243 -0.0136945669206257"/>
      <mass value="0.0104003125914103"/>
      <inertia ixx="2.71909453810972E-06" ixy="1.35402465472579E-21" ixz="-7.1817349065269E-22" iyy="7.69100314106116E-07" iyz="6.74715432769696E-07" izz="2.30315190420171E-06"/>
    </inertial>
    <visual>
      <origin rpy="0 0 0" xyz="0 0 0"/>
      <geometry>
        <mesh filename="package://pipebot_config/meshes/visual/robotiq_arg2f_140_inner_finger.stl"/>
      </geometry>
      <material name="">
        <color rgba="0.1 0.1 0.1 1"/>
      </material>
    </visual>
    <collision>
      <origin rpy="1.5708 0 0" xyz="0 0.02 -0.015"/>
      <geometry>
        <!-- <mesh filename="package://pipebot_config/meshes/collision/robotiq_arg2f_140_inner_finger.stl"/> -->
        <box size="0.015 0.015 0.05"/>
      </geometry>
    </collision>
  </link>
  <link name="right_inner_finger_pad">
    <visual>
      <origin rpy="0 0 0" xyz="0 0 0"/>
      <geometry>
        <box size="0.027 0.065 0.0075"/>
      </geometry>
      <material name="">
        <color rgba="0.792156862745098 0.819607843137255 0.933333333333333 1"/>
      </material>
    </visual>
    <collision>
      <origin rpy="0 0 0" xyz="0 0 0"/>
      <geometry>
        <box size="0.03 0.07 0.0075"/>
      </geometry>
    </collision>
  </link>
  <link name="right_inner_knuckle">
    <inertial>
      <origin rpy="0 0 0" xyz="0.000123011831763771 0.0507850843201817 0.00103968640075166"/>
      <mass value="0.0271177346495152"/>
      <inertia ixx="2.61910379223783E-05" ixy="-2.43616858946494E-07" ixz="-6.37789906117123E-09" iyy="2.8270243746167E-06" iyz="-5.37200748039765E-07" izz="2.83695868220296E-05"/>
    </inertial>
    <visual>
      <origin rpy="0 0 0" xyz="0 0 0"/>
      <geometry>
        <mesh filename="package://pipebot_config/meshes/visual/robotiq_arg2f_140_inner_knuckle.stl"/>
      </geometry>
      <material name="">
        <color rgba="0.1 0.1 0.1 1"/>
      </material>
    </visual>
    <collision>
      <origin rpy="-1.58 0 0" xyz="0 0.04 0.0"/>
      <geometry>
        <!-- <mesh filename="package://pipebot_config/meshes/collision/robotiq_arg2f_140_inner_knuckle.stl"/> -->
        <box size="0.03 0.015 0.11"/>
      </geometry>
    </collision>
  </link>


  <joint name="FR_hip_joint" type="continuous">
    <origin rpy="0 0 0" xyz="0.0897 -0.110275 0.0675"/>
    <parent link="base_link"/>
    <child link="FR_hip_1"/>
    <axis xyz="1.0 -0.0 0.0"/>
    <limit command_effort="40" current="10" effort="80" gear_velocity="10" lower="-3.0" upper="3.0" velocity="15.0" />
  </joint>
  <joint name="FL_hip_joint" type="continuous">
    <origin rpy="0 0 0" xyz="0.0897 0.109725 0.0675"/>
    <parent link="base_link"/>
    <child link="FL_hip_1"/>
    <axis xyz="1.0 -0.0 0.0"/>
    <limit command_effort="40" current="10" effort="80" gear_velocity="10" lower="-3.0" upper="3.0" velocity="15.0" />
  </joint>
  <joint name="BR_hip_joint" type="continuous">
    <origin rpy="0 0 0" xyz="-0.0903 -0.110275 0.0675"/>
    <parent link="base_link"/>
    <child link="BR_hip_1"/>
    <axis xyz="1.0 0.0 -0.0"/>
    <limit command_effort="40" current="10" effort="80" gear_velocity="10" lower="-3.0" upper="3.0" velocity="15.0" />
  </joint>
  <joint name="BL_hip_joint" type="continuous">
    <origin rpy="0 0 0" xyz="-0.0903 0.109725 0.0675"/>
    <parent link="base_link"/>
    <child link="BL_hip_2"/>
    <axis xyz="1.0 0.0 -0.0"/>
    <limit command_effort="40" current="10" effort="80" gear_velocity="10" lower="-3.0" upper="3.0" velocity="15.0" />
  </joint>
  <joint name="FR_thigh_joint" type="continuous">
    <origin rpy="0 0 0" xyz="0.055 -0.05 0.0"/>
    <parent link="FR_hip_1"/>
    <child link="FR_thigh_2"/>
    <axis xyz="0.0 1.0 -0.0"/>
    <limit command_effort="40" current="10" effort="80" gear_velocity="10" lower="-3.0" upper="3.0" velocity="15.0" />
  </joint>
  <joint name="FL_thigh_joint" type="continuous">
    <origin rpy="0 0 0" xyz="0.055 0.05 0.0"/>
    <parent link="FL_hip_1"/>
    <child link="FL_thigh_1"/>
    <axis xyz="-0.0 1.0 -0.0"/>
    <limit command_effort="40" current="10" effort="80" gear_velocity="10" lower="-3.0" upper="3.0" velocity="15.0" />
  </joint>
  <joint name="BR_thigh_joint" type="continuous">
    <origin rpy="0 0 0" xyz="-0.055 -0.05 0.0"/>
    <parent link="BR_hip_1"/>
    <child link="BR_thigh_1"/>
    <axis xyz="0.0 1.0 0.0"/>
    <limit command_effort="40" current="10" effort="80" gear_velocity="10" lower="-3.0" upper="3.0" velocity="15.0" />
  </joint>
  <joint name="BL_thigh_joint" type="continuous">
    <origin rpy="0 0 0" xyz="-0.055 0.05 0.0"/>
    <parent link="BL_hip_2"/>
    <child link="BL_thigh_1"/>
    <axis xyz="-0.0 1.0 0.0"/>
    <limit command_effort="40" current="10" effort="80" gear_velocity="10" lower="-3.0" upper="3.0" velocity="15.0" />
  </joint>
  <joint name="FR_calf_joint" type="continuous">
    <origin rpy="0 0 0" xyz="0.0 -0.02 -0.2"/>
    <parent link="FR_thigh_2"/>
    <child link="FR_calf_2"/>
    <axis xyz="0.0 1.0 -0.0"/>
    <limit command_effort="40" current="10" effort="80" gear_velocity="10" lower="-3.0" upper="3.0" velocity="15.0" />
  </joint>
  <joint name="FL_calf_joint" type="continuous">
    <origin rpy="0 0 0" xyz="0.0 0.02 -0.2"/>
    <parent link="FL_thigh_1"/>
    <child link="FL_calf_1"/>
    <axis xyz="-0.0 1.0 -0.0"/>
    <limit command_effort="40" current="10" effort="80" gear_velocity="10" lower="-3.0" upper="3.0" velocity="15.0" />
  </joint>
  <joint name="BR_calf_joint" type="continuous">
    <origin rpy="0 0 0" xyz="0.0 -0.02 -0.2"/>
    <parent link="BR_thigh_1"/>
    <child link="BR_calf_1"/>
    <axis xyz="0.0 1.0 0.0"/>
    <limit command_effort="40" current="10" effort="80" gear_velocity="10" lower="-3.0" upper="3.0" velocity="15.0" />
  </joint>
  <joint name="BL_calf_joint" type="continuous">
    <origin rpy="0 0 0" xyz="0.0 0.02 -0.2"/>
    <parent link="BL_thigh_1"/>
    <child link="BL_calf_1"/>
    <axis xyz="-0.0 1.0 0.0"/>
    <limit command_effort="40" current="10" effort="80" gear_velocity="10" lower="-3.0" upper="3.0" velocity="15.0" />
  </joint>
    <joint name="FL_foot_fixed" type="fixed">
    <origin rpy="0 0 0" xyz="0.0 0.03 -0.25"/>
    <parent link="FL_calf_1"/>
    <child link="FL_foot_1"/>
  </joint>
  <joint name="FR_foot_fixed" type="fixed">
    <origin rpy="0 0 0" xyz="0.0 -0.03 -0.25"/>
    <parent link="FR_calf_2"/>
    <child link="FR_foot_1"/>
  </joint>
  <joint name="BR_foot_fixed" type="fixed">
    <origin rpy="0 0 0" xyz="0.0 -0.03 -0.25"/>
    <parent link="BR_calf_1"/>
    <child link="BR_foot_4"/>
  </joint>
  <joint name="BL_foot_fixed" type="fixed">
    <origin rpy="0 0 0" xyz="0.0 0.03 -0.25"/>
    <parent link="BL_calf_1"/>
    <child link="BL_foot_1"/>
  </joint>
  <joint name="arm_1_joint" type="continuous">
    <origin rpy="0 0 0" xyz="0.1397 -0.000275 0.1915"/>
    <parent link="base_link"/>
    <child link="ARM_1_1"/>
    <axis xyz="0.0 0.0 1.0"/>
    <limit command_effort="40" current="10" effort="80" gear_velocity="10" lower="-3.0" upper="3.0" velocity="15.0" />
  </joint>
  <joint name="arm_2_joint" type="continuous">
    <origin rpy="0 0 0" xyz="0.0 -0.056 0.06"/>
    <parent link="ARM_1_1"/>
    <child link="ARM_2_1"/>
    <axis xyz="-0.0 1.0 -0.0"/>
    <limit command_effort="40" current="10" effort="80" gear_velocity="10" lower="-3.0" upper="3.0" velocity="15.0" />
  </joint>
  <joint name="arm_3_joint" type="continuous">
    <origin rpy="0 0 0" xyz="0.0 0.0 0.2"/>
    <parent link="ARM_2_1"/>
    <child link="ARM_3_1"/>
    <axis xyz="0.0 -1.0 0.0"/>
    <limit command_effort="40" current="10" effort="80" gear_velocity="10" lower="-3.0" upper="3.0" velocity="15.0" />
  </joint>
  <joint name="arm_4_joint" type="continuous">
    <origin rpy="0 0 0" xyz="0.0 0.058 0.125"/>
    <parent link="ARM_3_1"/>
    <child link="ARM_4_1"/>
    <axis xyz="-0.0 0.0 1.0"/>
    <limit command_effort="40" current="10" effort="80" gear_velocity="10" lower="-3.0" upper="3.0" velocity="15.0" />
  </joint>
  <joint name="arm_5_joint" type="continuous">
    <origin rpy="0 0 0" xyz="0.0 -0.045 0.075"/>
    <parent link="ARM_4_1"/>
    <child link="ARM_5_1"/>
    <axis xyz="0.0 -1.0 0.0"/>
    <limit command_effort="40" current="10" effort="80" gear_velocity="10" lower="-3.0" upper="3.0" velocity="15.0" />
  </joint>
  <joint name="arm_6_joint" type="continuous">
    <origin rpy="0 0 0" xyz="0.0 0.045 0.125"/>
    <parent link="ARM_5_1"/>
    <child link="ARM_6_1"/>
    <axis xyz="-0.0 0.0 1.0"/>
    <limit command_effort="40" current="10" effort="80" gear_velocity="10" lower="-3.0" upper="3.0" velocity="15.0" />
  </joint>

  <joint name="arm_6_finger_joint" type="fixed">
    <origin rpy="0 0 0" xyz="0.0 0.0 0.02"/>
    <parent link="ARM_6_1"/>
    <child link="robotiq_arg2f_base_link"/>
  </joint>
  <joint name="finger_joint" type="revolute">
    <origin rpy="2.29579632679 0 0" xyz="0 -0.030601 0.054905"/>
    <parent link="robotiq_arg2f_base_link"/>
    <child link="left_outer_knuckle"/>
    <axis xyz="-1 0 0"/>
    <limit effort="1000" lower="0" upper="0.7" velocity="2.0"/>
  </joint>
  <joint name="left_outer_finger_joint" type="fixed">
    <origin rpy="0 0 0" xyz="0 0.01821998610742 0.0260018192872234"/>
    <parent link="left_outer_knuckle"/>
    <child link="left_outer_finger"/>
    <axis xyz="1 0 0"/>
  </joint>
  <joint name="left_inner_knuckle_joint" type="revolute">
    <origin rpy="2.29579632679 0 0.0" xyz="0 -0.0127 0.06142"/>
    <parent link="robotiq_arg2f_base_link"/>
    <child link="left_inner_knuckle"/>
    <axis xyz="-1 0 0"/>
    <limit effort="1000" lower="0" upper="0.8757" velocity="2.0"/>
  </joint>
  <joint name="left_inner_finger_joint" type="revolute">
    <origin rpy="-0.725 0 0" xyz="0 0.0817554015893473 -0.0282203446692936"/>
    <parent link="left_outer_finger"/>
    <child link="left_inner_finger"/>
    <axis xyz="-1 0 0"/>
    <limit effort="1000" lower="-0.8757" upper="0.0" velocity="2.0"/>
  </joint>
  <joint name="left_inner_finger_pad_joint" type="fixed">
    <origin rpy="0 0 0" xyz="0 0.0457554015893473 -0.0272203446692936"/>
    <parent link="left_inner_finger"/>
    <child link="left_inner_finger_pad"/>
    <axis xyz="0 0 1"/>
  </joint>
  <joint name="right_outer_knuckle_joint" type="revolute">
    <origin rpy="2.29579632679 0 3.14159265359" xyz="0 0.030601 0.054905"/>
    <parent link="robotiq_arg2f_base_link"/>
    <child link="right_outer_knuckle"/>
    <axis xyz="-1 0 0"/>
    <limit effort="1000" lower="0" upper="0.725" velocity="2.0"/>
  </joint>
  <joint name="right_outer_finger_joint" type="fixed">
    <origin rpy="0 0 0" xyz="0 0.01821998610742 0.0260018192872234"/>
    <parent link="right_outer_knuckle"/>
    <child link="right_outer_finger"/>
    <axis xyz="1 0 0"/>
  </joint>
  <joint name="right_inner_knuckle_joint" type="revolute">
    <origin rpy="2.29579632679 0 -3.14159265359" xyz="0 0.0127 0.06142"/>
    <parent link="robotiq_arg2f_base_link"/>
    <child link="right_inner_knuckle"/>
    <axis xyz="-1 0 0"/>
    <limit effort="1000" lower="0" upper="0.8757" velocity="2.0"/>
  </joint>
  <joint name="right_inner_finger_joint" type="revolute">
    <origin rpy="-0.725 0 0" xyz="0 0.0817554015893473 -0.0282203446692936"/>
    <parent link="right_outer_finger"/>
    <child link="right_inner_finger"/>
    <axis xyz="-1 0 0"/>
    <limit effort="1000" lower="-0.8757" upper="0.0" velocity="2.0"/>
  </joint>
  <joint name="right_inner_finger_pad_joint" type="fixed">
    <origin rpy="0 0 0" xyz="0 0.0457554015893473 -0.0272203446692936"/>
    <parent link="right_inner_finger"/>
    <child link="right_inner_finger_pad"/>
    <axis xyz="0 0 1"/>
  </joint>

  <!--  IMU link -->
   <link name="imu_link">
    <inertial>
      <mass value="0.01"/>
      <inertia ixx="1.0e-5" ixy="0.0" ixz="0.0" iyy="1.0e-5" iyz="0.0" izz="1.0e-5"/>
    </inertial>
   </link>
   <joint name="imu_base" type="fixed">
      <parent link="base_link" />
      <child link="imu_link" />
      <origin rpy="0 0 0" xyz="0 0 0" />
   </joint>

  <gazebo reference="imu_link">
    <gravity>true</gravity>
    <sensor name="imu_sensor" type="imu">
      <always_on>true</always_on>
      <update_rate>100</update_rate>
      <visualize>true</visualize>
      <topic>__default_topic__</topic>
      <plugin filename="libgazebo_ros_imu_sensor.so" name="imu_plugin">
        <topicName>imu</topicName>
        <bodyName>imu_link</bodyName>
        <updateRateHZ>100.0</updateRateHZ>
        <gaussianNoise>0.0</gaussianNoise>
        <xyzOffset>0 0 0</xyzOffset>
        <rpyOffset>0 0 0</rpyOffset>
        <frameName>imu_link</frameName>
        <initialOrientationAsReference>false</initialOrientationAsReference>
      </plugin>
      <pose>0 0 0 0 0 0</pose>
    </sensor>
  </gazebo>

  <!--  Camera link -->
  <link name="d435_link">
    <inertial>
      <mass value="0.01"/>
      <inertia ixx="1.0e-5" ixy="0.0" ixz="0.0" iyy="1.0e-5" iyz="0.0" izz="1.0e-5"/>
    </inertial>
  </link>
  <joint name="cam_fixed_d435" type="fixed">
    <axis xyz="1 0 0"/>
    <origin rpy="0 -1.5708 0" xyz="-0.04 0 0.05"/>
    <parent link="ARM_6_1"/>
    <child link="d435_link"/>
  </joint>
  <gazebo reference="d435_link">
    <sensor type="multicamera" name="stereo_camera">
      <camera name="left">
        <pose>0 0 0 0 0 0</pose>
        <horizontal_fov>1.518</horizontal_fov>
        <image>
          <width>1280</width>
          <height>720</height>
          <format>R8G8B8</format>
        </image>
        <clip>
          <near>0.02</near>
          <far>30000</far>
        </clip>
        <noise>
          <type>gaussian</type>
          <mean>0.0</mean>
          <stddev>0.001</stddev>
        </noise>
      </camera>
      <camera name="right">
        <pose>0 -0.05 0 0 0 0</pose>
        <horizontal_fov>1.518</horizontal_fov>
        <image>
          <width>1280</width>
          <height>720</height>
          <format>R8G8B8</format>
        </image>
        <clip>
          <near>0.02</near>
          <far>30000</far>
        </clip>
        <noise>
          <type>gaussian</type>
          <mean>0.0</mean>
          <stddev>0.001</stddev>
        </noise>
      </camera>
      <always_on>1</always_on>
      <visualize>1</visualize>
      <update_rate>10.0</update_rate>
      <plugin name="stereo_camera_controller" filename="libgazebo_ros_multicamera.so">
        <robotNamespace>/d435</robotNamespace>
        <baseline>0.05</baseline>
        <alwaysOn>true</alwaysOn>
        <updateRate>10.0</updateRate>
        <cameraName>stereo_ir</cameraName>
        <imageTopicName>image_raw</imageTopicName>
        <cameraInfoTopicName>camera_info</cameraInfoTopicName>
        <frameName>d435_camera_link</frameName>
        <hackBaseline>0.05</hackBaseline>
      </plugin>
    </sensor>
    <sensor name="dcamera" type="depth">
      <camera name="ddepth">
        <horizontal_fov>1.518</horizontal_fov>
        <image>
          <width>1280</width>
          <height>720</height>
          <format>R8G8B8</format>
        </image>
        <clip>
          <near>0.02</near>
          <far>30000</far>
        </clip>
        <noise>
          <type>gaussian</type>
          <mean>0.0</mean>
          <stddev>0.001</stddev>
        </noise>
      </camera>
      <always_on>1</always_on>
      <visualize>1</visualize>
      <update_rate>10</update_rate>
      <plugin name="dcamera_plugin" filename="libgazebo_ros_openni_kinect.so">
        <robotNamespace>/d435</robotNamespace>
        <baseline>0.05</baseline>
        <alwaysOn>true</alwaysOn>
        <updateRate>10.0</updateRate>
        <cameraName>depth</cameraName>
        <imageTopicName>rgb_image_raw</imageTopicName>
        <cameraInfoTopicName>camera_info</cameraInfoTopicName>
        <depthImageTopicName>image_raw</depthImageTopicName>
        <depthImageCameraInfoTopicName>camera_info</depthImageCameraInfoTopicName>
        <pointCloudTopicName>pointcloud</pointCloudTopicName>
        <frameName>d435_camera_link</frameName>
        <pointCloudCutoff>0.3</pointCloudCutoff>
        <pointCloudCutoffMax>4.0</pointCloudCutoffMax>
        <hackBaseline>0.05</hackBaseline>
      </plugin>
    </sensor>
  </gazebo>

  <!--  Camera link -->
  <link name="l515_link">
    <inertial>
      <mass value="0.01"/>
      <inertia ixx="1.0e-5" ixy="0.0" ixz="0.0" iyy="1.0e-5" iyz="0.0" izz="1.0e-5"/>
    </inertial>
  </link>
  <joint name="cam_fixed_l515" type="fixed">
    <axis xyz="1 0 0"/>
    <origin rpy="0 0 0" xyz="0.28 0 0.08"/>
    <parent link="base_link"/>
    <child link="l515_link"/>
  </joint>
  <gazebo reference="l515_link">
    <sensor name="camera" type="depth">
      <camera name="depth">
        <horizontal_fov>1.217</horizontal_fov>
        <image>
          <width>1024</width>
          <height>768</height>
          <format>R8G8B8</format>
        </image>
        <clip>
          <near>0.02</near>
          <far>30000</far>
        </clip>
        <noise>
          <type>gaussian</type>
          <mean>0.0</mean>
          <stddev>0.001</stddev>
        </noise>
      </camera>
      <always_on>1</always_on>
      <visualize>1</visualize>
      <update_rate>10</update_rate>
      <plugin name="camera_plugin" filename="libgazebo_ros_openni_kinect.so">
        <robotNamespace>/l515</robotNamespace>
        <baseline>0.03</baseline>
        <alwaysOn>true</alwaysOn>
        <updateRate>10.0</updateRate>
        <cameraName>depth</cameraName>
        <imageTopicName>rgb_image_raw</imageTopicName>
        <cameraInfoTopicName>rgb_camera_info</cameraInfoTopicName>
        <depthImageTopicName>image_raw</depthImageTopicName>
        <depthImageCameraInfoTopicName>camera_info</depthImageCameraInfoTopicName>
        <pointCloudTopicName>pointcloud</pointCloudTopicName>
        <frameName>l515_camera_link</frameName>
        <pointCloudCutoff>0.25</pointCloudCutoff>
        <pointCloudCutoffMax>9.0</pointCloudCutoffMax>
        <hackBaseline>0.03</hackBaseline>
      </plugin>
    </sensor>
  </gazebo>

  <!--  Camera link -->
  <link name="l515_link_back">
    <inertial>
      <mass value="0.01"/>
      <inertia ixx="1.0e-5" ixy="0.0" ixz="0.0" iyy="1.0e-5" iyz="0.0" izz="1.0e-5"/>
    </inertial>
  </link>
  <joint name="cam_fixed_l515_back" type="fixed">
    <axis xyz="1 0 0"/>
    <origin rpy="0 0 3.141592" xyz="-0.28 0 0.08"/>
    <parent link="base_link"/>
    <child link="l515_link_back"/>
  </joint>
  <gazebo reference="l515_link_back">
    <sensor name="camera" type="depth">
      <camera name="depth">
        <horizontal_fov>1.217</horizontal_fov>
        <image>
          <width>1024</width>
          <height>768</height>
          <format>R8G8B8</format>
        </image>
        <clip>
          <near>0.02</near>
          <far>30000</far>
        </clip>
        <noise>
          <type>gaussian</type>
          <mean>0.0</mean>
          <stddev>0.001</stddev>
        </noise>
      </camera>
      <always_on>1</always_on>
      <visualize>1</visualize>
      <update_rate>10</update_rate>
      <plugin name="camera_plugin" filename="libgazebo_ros_openni_kinect.so">
        <robotNamespace>/l515_back</robotNamespace>
        <baseline>0.03</baseline>
        <alwaysOn>true</alwaysOn>
        <updateRate>10.0</updateRate>
        <cameraName>depth</cameraName>
        <imageTopicName>rgb_image_raw</imageTopicName>
        <cameraInfoTopicName>rgb_camera_info</cameraInfoTopicName>
        <depthImageTopicName>image_raw</depthImageTopicName>
        <depthImageCameraInfoTopicName>camera_info</depthImageCameraInfoTopicName>
        <pointCloudTopicName>pointcloud</pointCloudTopicName>
        <frameName>l515_camera_link_back</frameName>
        <pointCloudCutoff>0.25</pointCloudCutoff>
        <pointCloudCutoffMax>9.0</pointCloudCutoffMax>
        <hackBaseline>0.03</hackBaseline>
      </plugin>
    </sensor>
  </gazebo>

  <!--  Camera link -->
  <link name="t265_link">
    <inertial>
      <mass value="0.01"/>
      <inertia ixx="1.0e-5" ixy="0.0" ixz="0.0" iyy="1.0e-5" iyz="0.0" izz="1.0e-5"/>
    </inertial>
  </link>
  <joint name="cam_fixed_t265" type="fixed">
    <axis xyz="1 0 0"/>
    <origin rpy="0 0 0" xyz="0.285 0 0.1"/>
    <parent link="base_link"/>
    <child link="t265_link"/>
  </joint>
  <gazebo reference="t265_link">
    <sensor type="wideanglecamera" name="wideanglecamerat265">
      <camera name="tleft">
        <pose>0 0.032 0 0 0 0</pose>
        <horizontal_fov>3.141592</horizontal_fov>
        <image>
          <width>848</width>
          <height>800</height>
          <format>R8G8B8</format>
        </image>
        <clip>
          <near>0.02</near>
          <far>30000</far>
        </clip>
        <noise>
          <type>gaussian</type>
          <mean>0.0</mean>
          <stddev>0.001</stddev>
        </noise>
        <lens>
          <type>custom</type> 
          <custom_function>
            <c1>1.0</c1>  
            <c2>1.95</c2> 
            <f>6</f>      
            <fun>tan</fun> 
          </custom_function>
          <scale_to_hfov>true</scale_to_hfov>  
          <cutoff_angle>2.84488668</cutoff_angle>
          <env_texture_size>512</env_texture_size> 
        </lens>
      </camera>
      <plugin name="camera_controller" filename="libgazebo_ros_camera.so">
        <alwaysOn>true</alwaysOn>
        <updateRate>10.0</updateRate>
        <robotNamespace>/t265</robotNamespace>
        <cameraName>stereo_ir/left</cameraName>
        <imageTopicName>fisheye_image_raw</imageTopicName>
        <cameraInfoTopicName>camera_info</cameraInfoTopicName>
        <frameName>t265_camera_link</frameName>
        <hackBaseline>0</hackBaseline>
      </plugin>
    </sensor>
    <sensor type="wideanglecamera" name="wideanglecamerat265">
      <camera name="tright">
        <pose>0 -0.032 0 0 0 0</pose>
        <horizontal_fov>3.141592</horizontal_fov>
        <image>
          <width>848</width>
          <height>800</height>
          <format>R8G8B8</format>
        </image>
        <clip>
          <near>0.02</near>
          <far>30000</far>
        </clip>
        <noise>
          <type>gaussian</type>
          <mean>0.0</mean>
          <stddev>0.001</stddev>
        </noise>
        <lens>
          <type>custom</type> 
          <custom_function> 
            <c1>1.0</c1>  
            <c2>1.95</c2> 
            <f>6</f>    
            <fun>tan</fun>
          </custom_function>
          <scale_to_hfov>true</scale_to_hfov> 
          <cutoff_angle>2.84488668</cutoff_angle>
          <env_texture_size>512</env_texture_size> 
        </lens>
      </camera>
      <plugin name="camera_controller" filename="libgazebo_ros_camera.so">
        <alwaysOn>true</alwaysOn>
        <updateRate>10.0</updateRate>
        <robotNamespace>/t265</robotNamespace>
        <cameraName>stereo_ir/right</cameraName>
        <imageTopicName>fisheye_image_raw</imageTopicName>
        <cameraInfoTopicName>camera_info</cameraInfoTopicName>
        <frameName>t265_camera_link_right</frameName>
        <hackBaseline>0</hackBaseline>
      </plugin>
    </sensor>
  </gazebo>


</robot>
